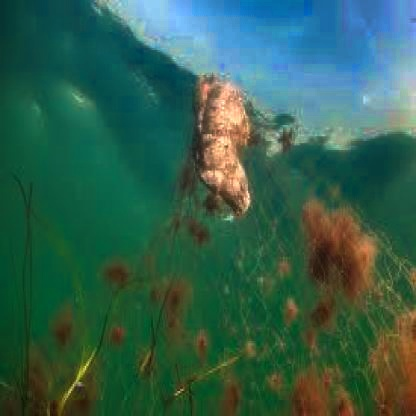net: (246, 141, 416, 416)
